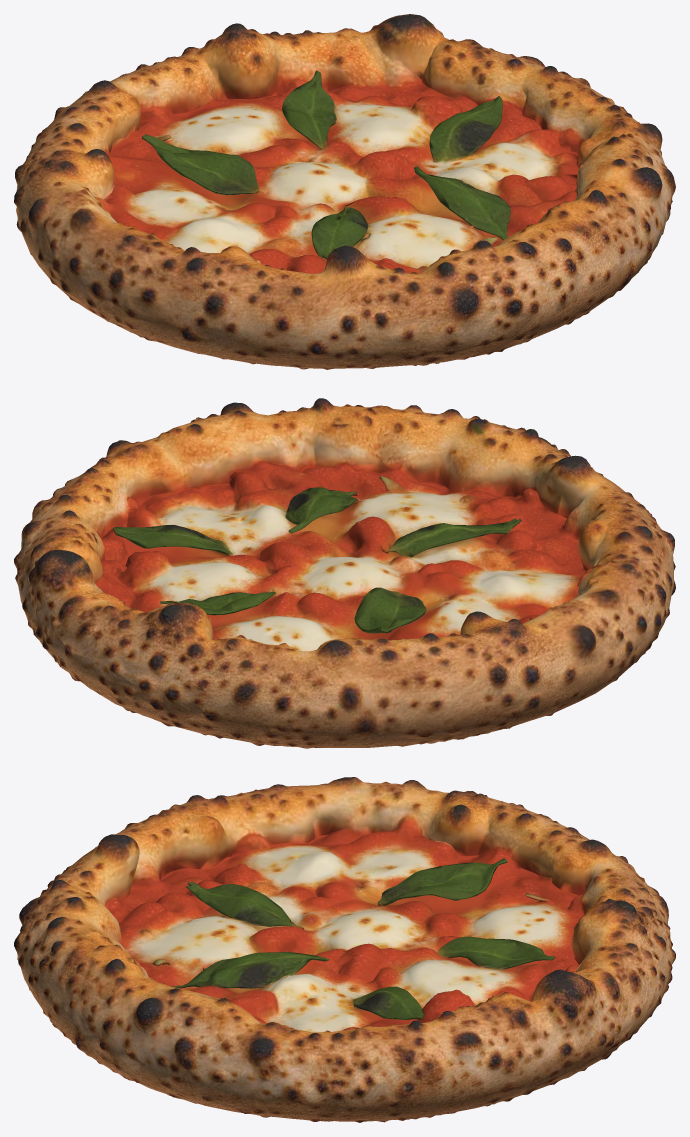
File: pizza.glb
3 renders of one model, top to bottom at view 1: azimuth 30°, elevation 25°; view 2: azimuth 150°, elevation 25°; view 3: azimuth 270°, elevation 25°, orthographic.
Parts seen in each view (by area): view 1: tripo_node_99e1c218-85e7-47a0-8195-f7fb20982654; view 2: tripo_node_99e1c218-85e7-47a0-8195-f7fb20982654; view 3: tripo_node_99e1c218-85e7-47a0-8195-f7fb20982654.
Boxes of the visible parts, box(x1,y1,x2,y2) form: tripo_node_99e1c218-85e7-47a0-8195-f7fb20982654: box(14, 14, 675, 369); tripo_node_99e1c218-85e7-47a0-8195-f7fb20982654: box(14, 398, 675, 748); tripo_node_99e1c218-85e7-47a0-8195-f7fb20982654: box(14, 777, 675, 1122).
Size of the model in its own units: 0.9779 by 0.198 by 0.9795.
1 material, 1 textured.
